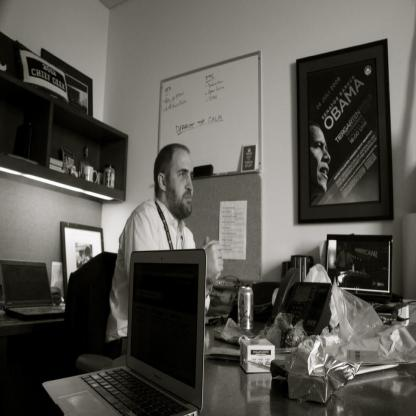board: (43, 248, 206, 416), (0, 258, 65, 320), (238, 286, 254, 334)
